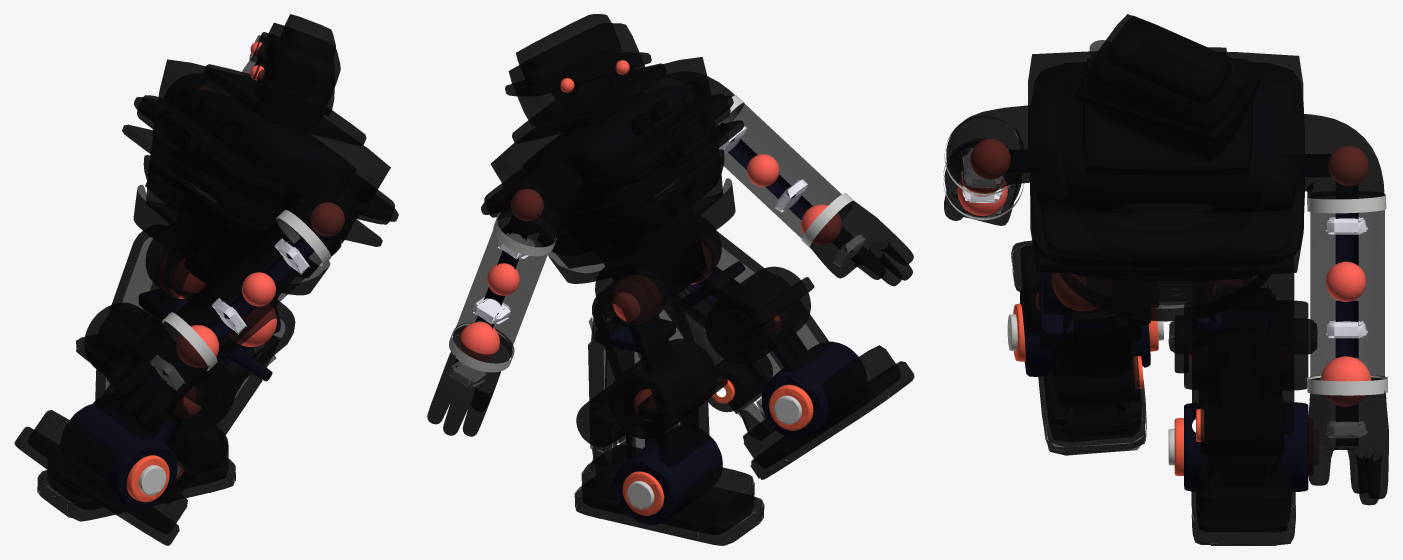
3 views of the same model, side by side, from view 1: azimuth 30°, elevation 25°; view 2: azimuth 150°, elevation 25°; view 3: azimuth 270°, elevation 25° (orthographic). The views are drawn at different scales.
Visible parts, largest first — view 1: Cube.010, Cube.005, Circle.115, Cube.002, Circle.003, Cube.023, Cube.040, Cube.007, Circle.067, Cube.024, BezierCurve.001, Cylinder.002 (+40 smaller); view 2: Cube.010, Cube.002, Circle.067, Circle.063, Circle.121, Cube.014, Cube.013, Circle.065, BezierCurve.006, Cube.005, Circle.114, Cube.023 (+48 smaller); view 3: Cube.010, Cube.040, Cube.002, Cube.017, Cube.041, Cube.038, Cube.003, Circle.007, Cube.007, Cube.001, Cube.016, Cylinder.002 (+43 smaller).
Part boxes in pixels (left/top/right/bottom): Cube.010: left=146, top=59, right=390, bottom=278; Cube.005: left=106, top=321, right=209, bottom=427; Circle.115: left=64, top=403, right=177, bottom=510; Cube.002: left=251, top=22, right=340, bottom=125; Circle.003: left=175, top=218, right=321, bottom=359; Cube.023: left=28, top=410, right=187, bottom=533; Cube.040: left=137, top=95, right=394, bottom=224; Cube.007: left=184, top=89, right=356, bottom=205; Circle.067: left=107, top=231, right=206, bottom=335; Cube.024: left=14, top=426, right=179, bottom=545; BezierCurve.001: left=283, top=161, right=355, bottom=255; Cylinder.002: left=133, top=184, right=330, bottom=295; Cube.010: left=490, top=57, right=723, bottom=268; Cube.002: left=508, top=23, right=647, bottom=126; Circle.067: left=592, top=267, right=697, bottom=430; Circle.063: left=608, top=339, right=716, bottom=439; Circle.121: left=705, top=266, right=810, bottom=364; Cube.014: left=581, top=445, right=754, bottom=534; Cube.013: left=574, top=470, right=764, bottom=545; Circle.065: left=614, top=426, right=722, bottom=525; BezierCurve.006: left=497, top=157, right=585, bottom=247; Cube.005: left=810, top=200, right=913, bottom=286; Circle.114: left=714, top=273, right=831, bottom=393; Cube.023: left=743, top=345, right=901, bottom=468; Cube.010: left=1028, top=51, right=1303, bottom=280; Cube.040: left=1041, top=83, right=1293, bottom=267; Cube.002: left=1087, top=14, right=1249, bottom=164; Cube.017: left=1205, top=284, right=1284, bottom=500; Cube.041: left=1030, top=97, right=1304, bottom=265; Cube.038: left=1082, top=58, right=1252, bottom=175; Cube.003: left=1105, top=15, right=1231, bottom=117; Circle.007: left=1310, top=191, right=1384, bottom=377; Cube.007: left=1062, top=82, right=1269, bottom=196; Cube.001: left=1307, top=377, right=1388, bottom=505; Cube.016: left=1053, top=308, right=1131, bottom=418; Cylinder.002: left=1058, top=272, right=1271, bottom=321.
Bounding box in the file's own units: 9.23 × 11.06 × 8.12.
